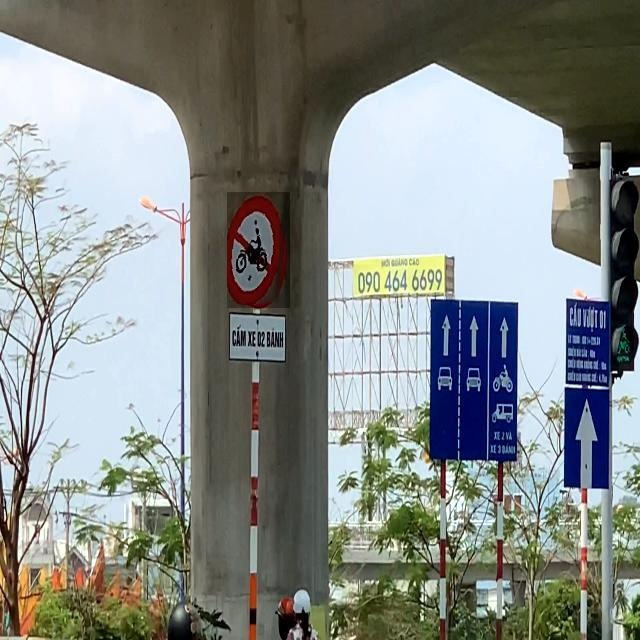bien_chi_dan: (227, 192, 290, 308)
